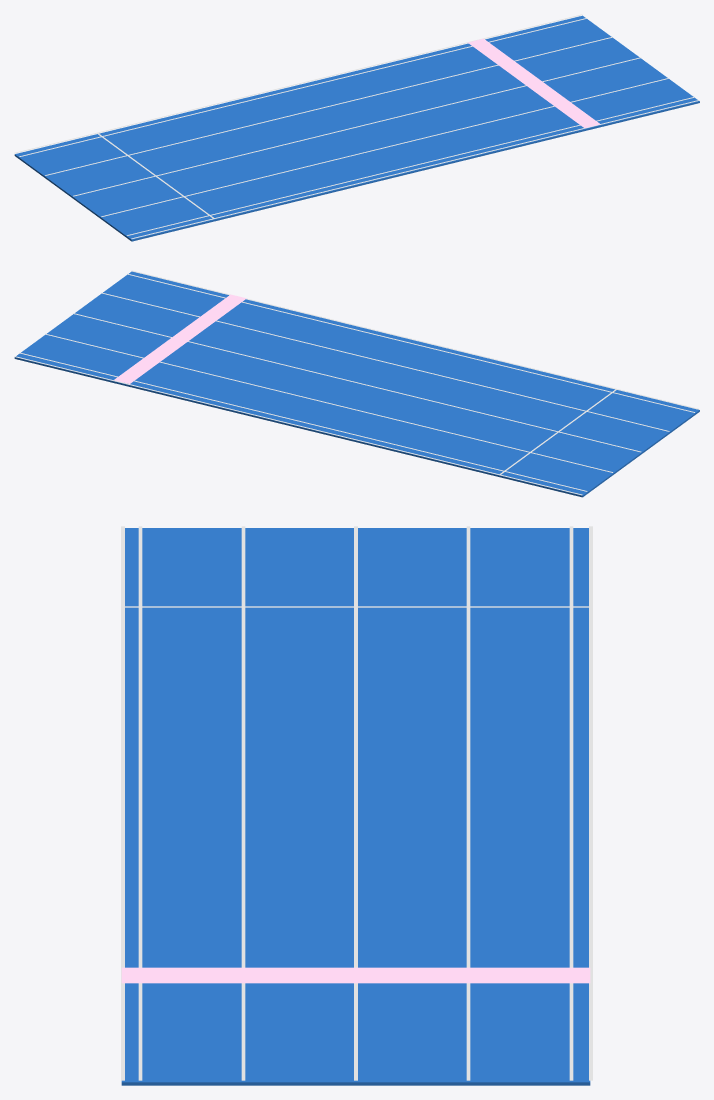
The model's file is track.gltf.
3 renders of one model, top to bottom at view 1: azimuth 30°, elevation 25°; view 2: azimuth 150°, elevation 25°; view 3: azimuth 270°, elevation 25°, orthographic. The views are drawn at different scales.
Parts seen in each view (by area): view 1: MeshInstance3D, GoalMesh, MeshInstance3D7, MeshInstance3D6, MeshInstance3D3, MeshInstance3D2, MeshInstance3D22, MeshInstance3D4, MeshInstance3D5; view 2: MeshInstance3D, GoalMesh, MeshInstance3D6, MeshInstance3D3, MeshInstance3D7, MeshInstance3D2, MeshInstance3D5, MeshInstance3D22, MeshInstance3D4; view 3: MeshInstance3D, GoalMesh, MeshInstance3D2, MeshInstance3D22, MeshInstance3D4, MeshInstance3D5, MeshInstance3D6, MeshInstance3D7, MeshInstance3D3, MeshInstance3D8.
Boxes of the visible parts, bbox=[...] form: MeshInstance3D: bbox=[14, 15, 699, 241]; GoalMesh: bbox=[468, 38, 600, 128]; MeshInstance3D7: bbox=[131, 100, 699, 238]; MeshInstance3D6: bbox=[14, 14, 582, 153]; MeshInstance3D3: bbox=[73, 57, 641, 196]; MeshInstance3D2: bbox=[127, 97, 695, 235]; MeshInstance3D22: bbox=[101, 78, 669, 216]; MeshInstance3D4: bbox=[45, 37, 613, 175]; MeshInstance3D5: bbox=[19, 18, 587, 156]; MeshInstance3D: bbox=[14, 271, 699, 497]; GoalMesh: bbox=[114, 294, 246, 383]; MeshInstance3D6: bbox=[14, 356, 582, 495]; MeshInstance3D3: bbox=[73, 313, 641, 452]; MeshInstance3D7: bbox=[131, 270, 699, 409]; MeshInstance3D2: bbox=[127, 273, 694, 412]; MeshInstance3D5: bbox=[19, 352, 587, 491]; MeshInstance3D22: bbox=[101, 292, 669, 431]; MeshInstance3D4: bbox=[45, 333, 612, 472]; MeshInstance3D: bbox=[121, 528, 590, 1085]; GoalMesh: bbox=[121, 967, 590, 983]; MeshInstance3D2: bbox=[138, 526, 142, 1080]; MeshInstance3D22: bbox=[241, 526, 245, 1080]; MeshInstance3D4: bbox=[466, 526, 470, 1080]; MeshInstance3D5: bbox=[569, 526, 573, 1080]; MeshInstance3D6: bbox=[589, 526, 592, 1080]; MeshInstance3D7: bbox=[121, 526, 124, 1080]; MeshInstance3D3: bbox=[354, 526, 357, 1080]; MeshInstance3D8: bbox=[125, 606, 590, 607].
Size of the model in its own units: 70 by 0.3386 by 25.17.
